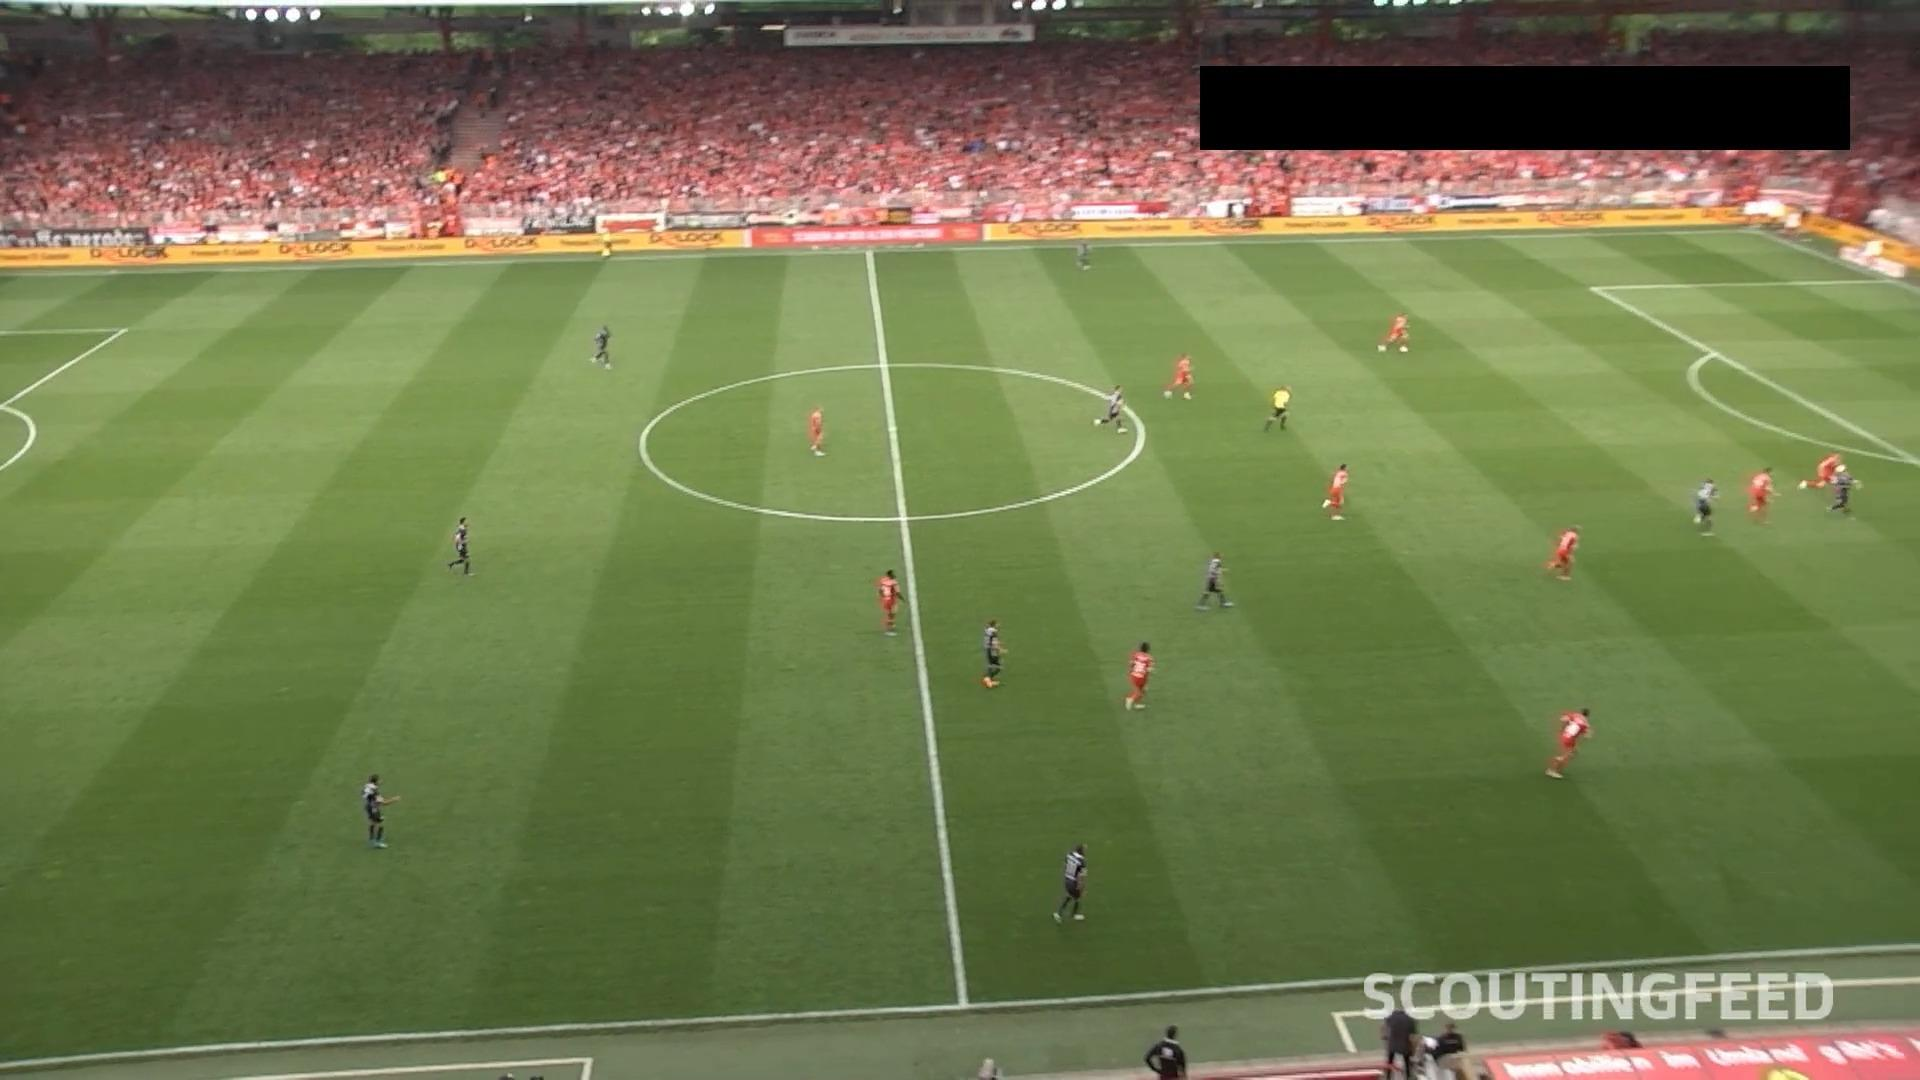ball: (1833, 464, 1846, 475)
